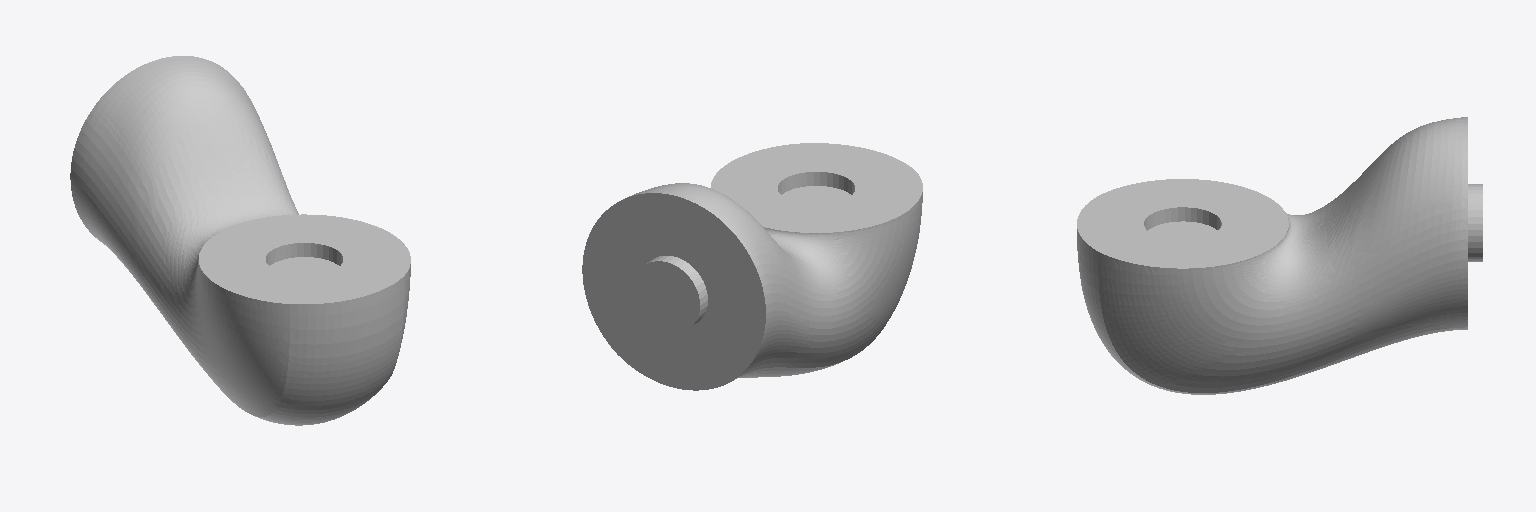
The picture shows the model from 3 angles: view 1: azimuth 30°, elevation 25°; view 2: azimuth 150°, elevation 25°; view 3: azimuth 270°, elevation 25°; orthographic projection.
Visible parts, largest first — view 1: /ambf/env/Link1; view 2: /ambf/env/Link1; view 3: /ambf/env/Link1.
Part boxes in pixels (left/top/right/bottom): /ambf/env/Link1: left=70, top=56, right=410, bottom=425; /ambf/env/Link1: left=582, top=143, right=922, bottom=390; /ambf/env/Link1: left=1077, top=117, right=1482, bottom=394.
Bounding box in the file's own units: 0.1385 × 0.186 × 0.2654.